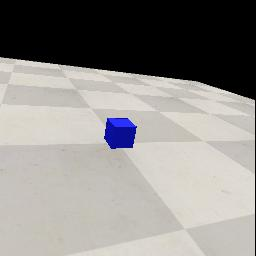box: (104, 118, 137, 149)
